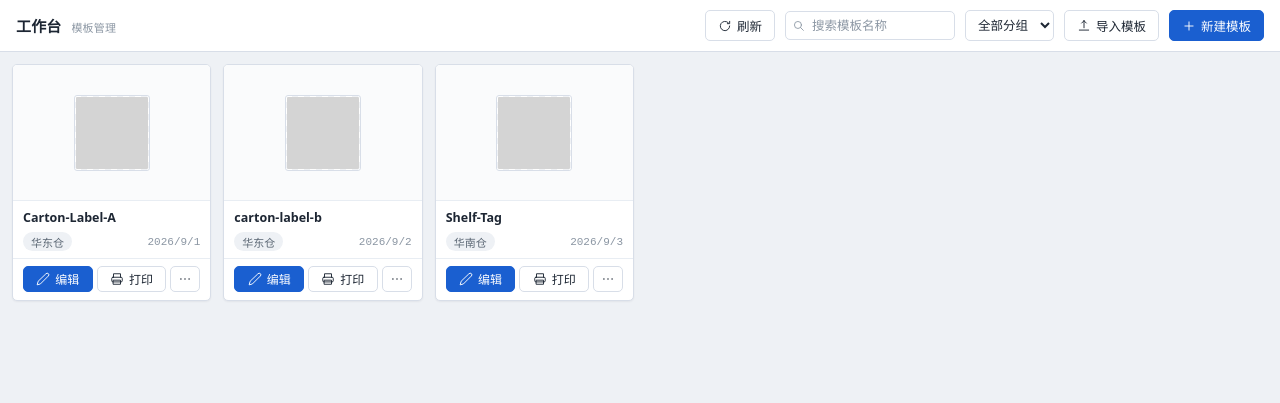
Scenario: ⋯ 溢出菜单（迭代 104 · #225） › 菜单内点「导出」：菜单收起并走既有导出链（携带模板名）
expect the text "Shelf-Tag" is shown: met, box left=446, top=209, right=502, bottom=226
Click the button named "更多操作" at coordinates (608, 279), box left=593, top=266, right=623, bottom=292
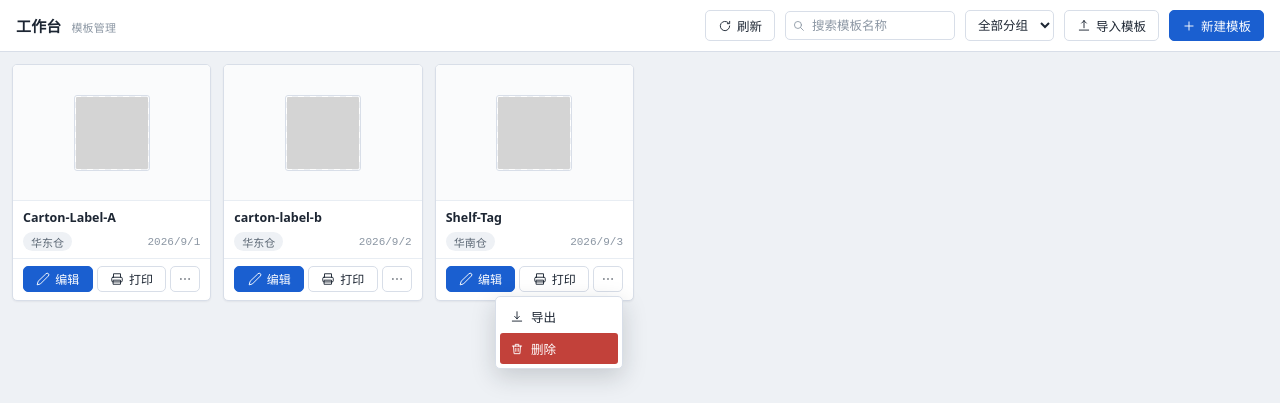
Click the menu item "导出" at coordinates (559, 316), box left=500, top=301, right=618, bottom=332
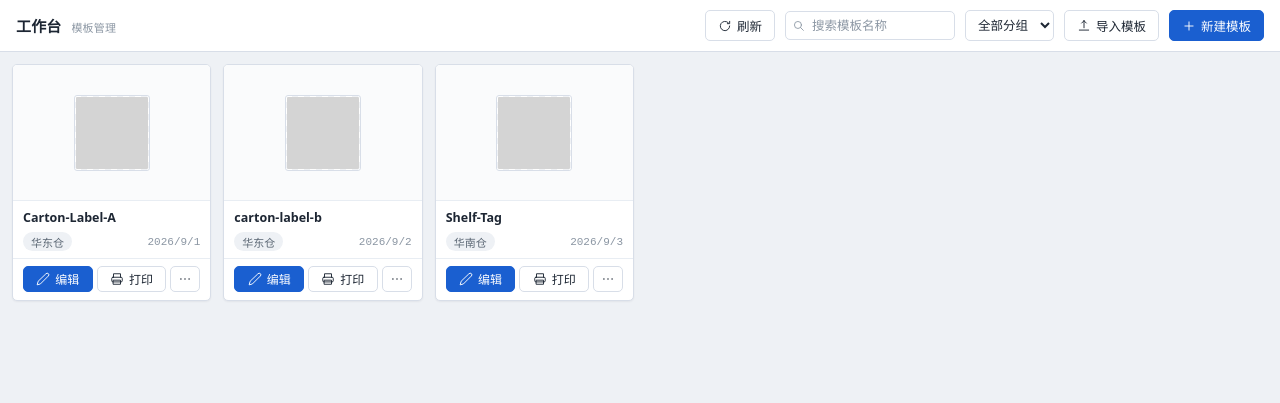
expect the menu is gone: met
